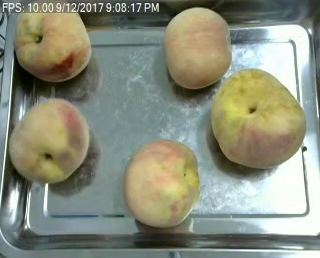Peach: (211, 67, 306, 168), (8, 98, 89, 184), (124, 138, 200, 228), (15, 0, 91, 82), (164, 7, 233, 89)
